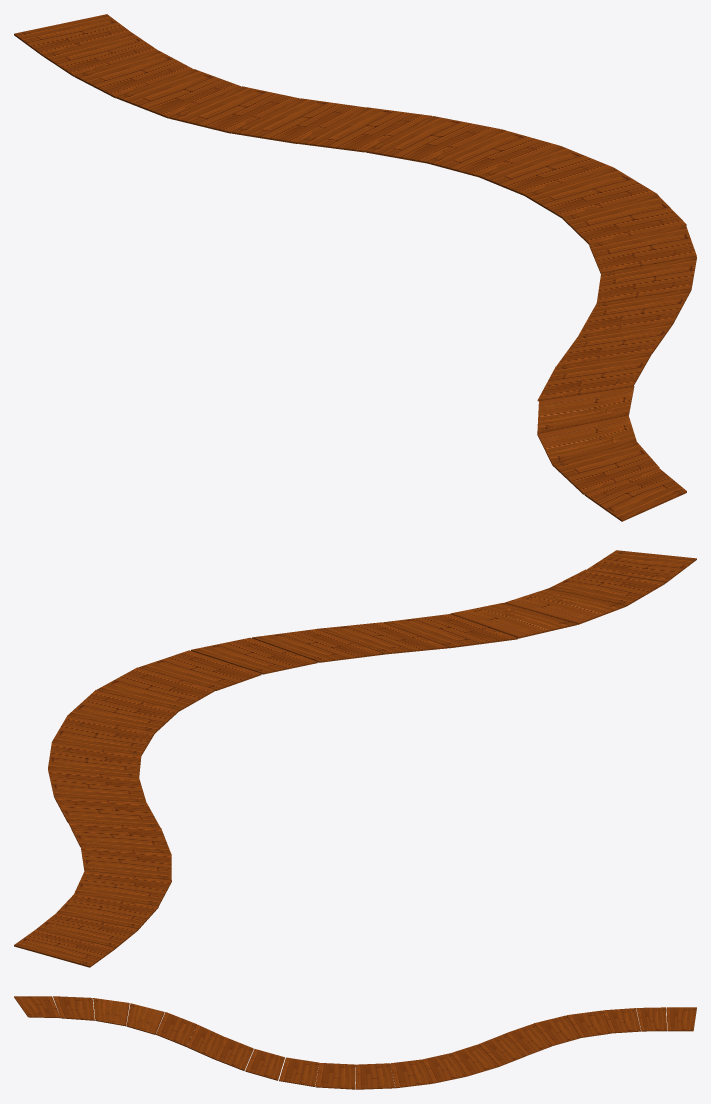
File: muell_pista.fbx
3 renders of one model, top to bottom at view 1: azimuth 30°, elevation 25°; view 2: azimuth 150°, elevation 25°; view 3: azimuth 270°, elevation 25°, orthographic. The views are drawn at different scales.
Parts seen in each view (by area): view 1: muelle_pista; view 2: muelle_pista; view 3: muelle_pista.
Boxes of the visible parts, bbox=[...] form: muelle_pista: bbox=[14, 14, 696, 521]; muelle_pista: bbox=[14, 550, 696, 967]; muelle_pista: bbox=[14, 996, 696, 1089].
Size of the model in its own units: 11829 by 57.67 by 36812.
